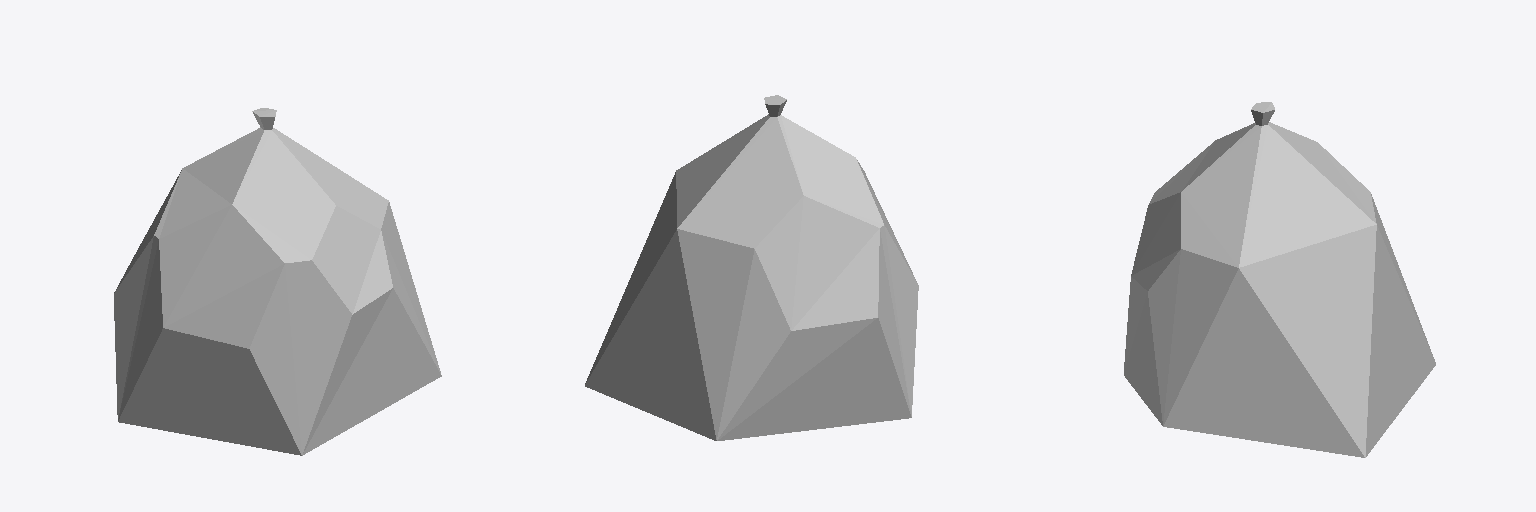
Rendered from trash_bag2.obj.
3 views of the same model, side by side, from view 1: azimuth 30°, elevation 25°; view 2: azimuth 150°, elevation 25°; view 3: azimuth 270°, elevation 25° (orthographic).
Visible parts, largest first — view 1: Icosphere.005; view 2: Icosphere.005; view 3: Icosphere.005.
Boxes of the visible parts, x1=… form: Icosphere.005: x1=114, y1=108, x2=441, y2=455; Icosphere.005: x1=585, y1=95, x2=918, y2=440; Icosphere.005: x1=1124, y1=102, x2=1435, y2=457.
Bounding box in the file's own units: 0.6835 × 0.6934 × 0.6567.